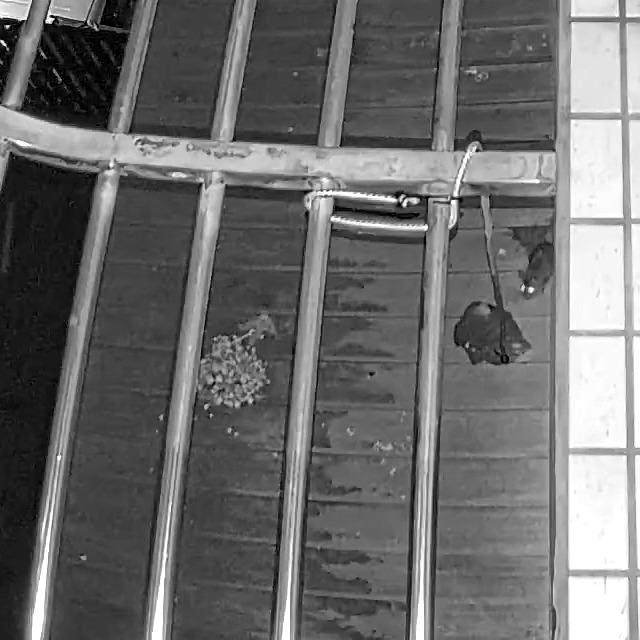rat: (518, 241, 556, 303)
